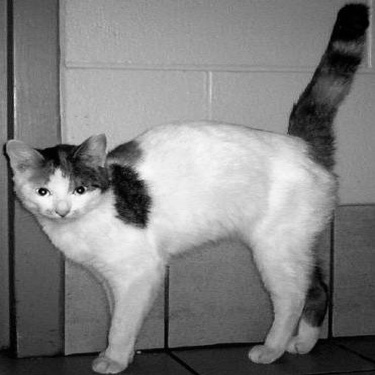cat: (10, 6, 363, 352)
